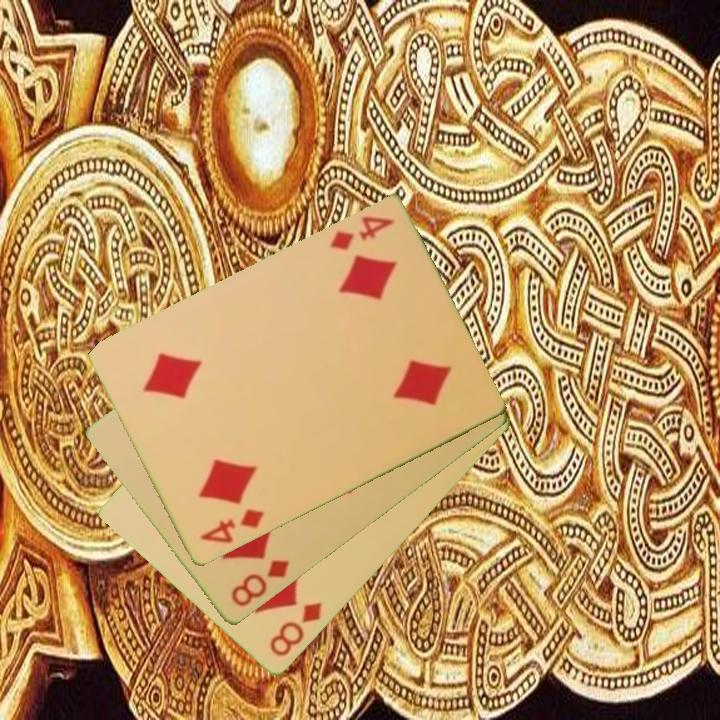4d: (326, 213, 397, 254), (197, 506, 267, 547)
8d: (227, 556, 293, 611), (266, 599, 325, 660)
